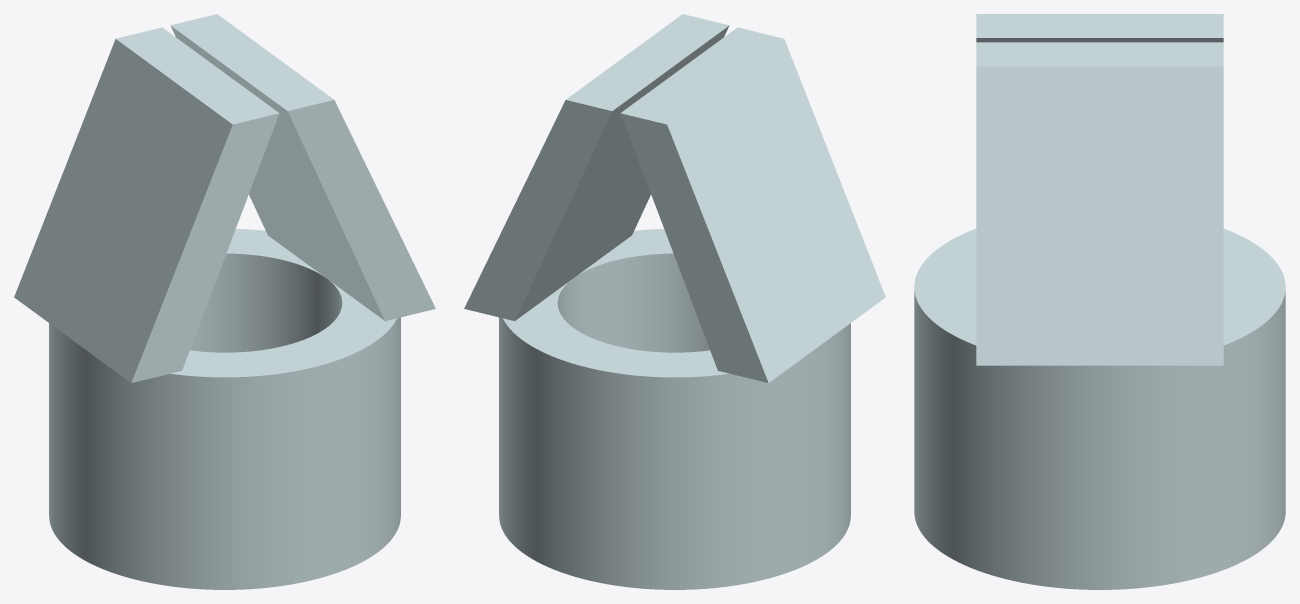
Rendered from duckbill_valve_generic.glb.
3 renders of one model, left to right at view 1: azimuth 30°, elevation 25°; view 2: azimuth 150°, elevation 25°; view 3: azimuth 270°, elevation 25°, orthographic. The views are drawn at different scales.
Parts seen in each view (by area): view 1: sleeve; view 2: sleeve; view 3: sleeve.
Boxes of the visible parts, x1,y1,x2,y2 form: sleeve: (14,14,435,589); sleeve: (464,14,885,589); sleeve: (914,14,1285,589).
Bounding box in the file's own units: 0.003 × 0.0042 × 0.003.
